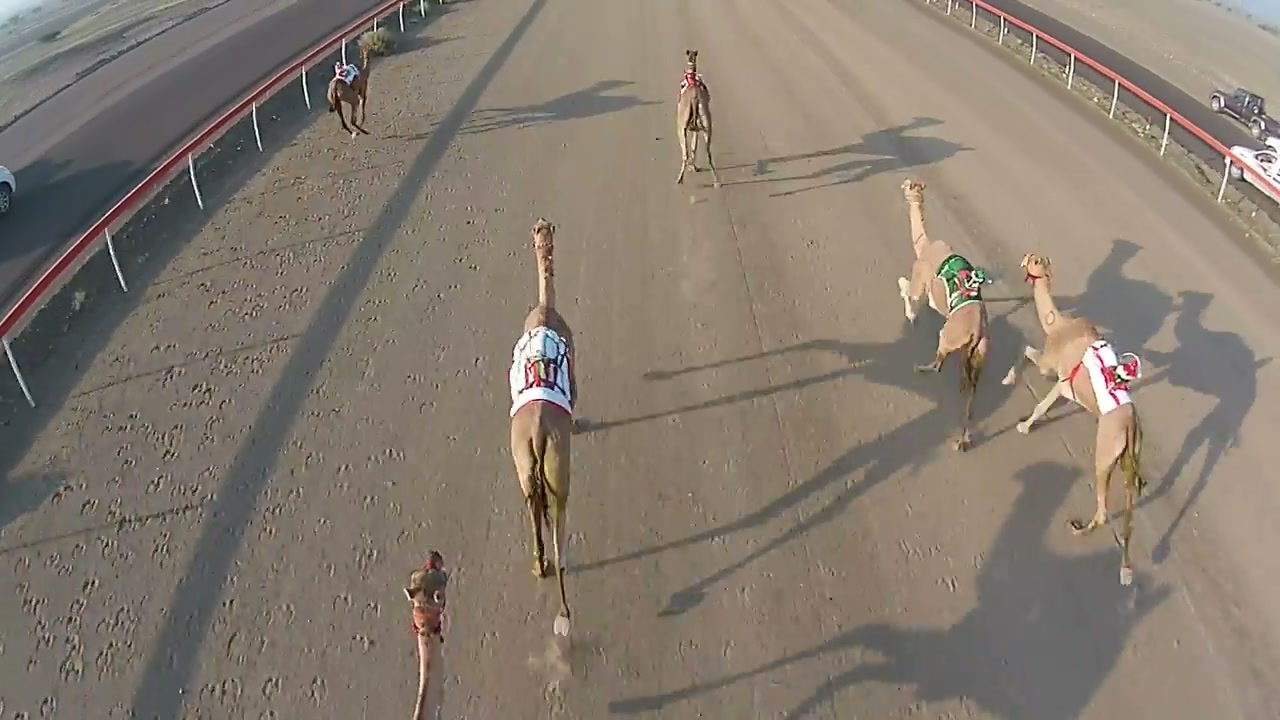animal_foot_print: (17, 171, 357, 709), (220, 169, 489, 717)
